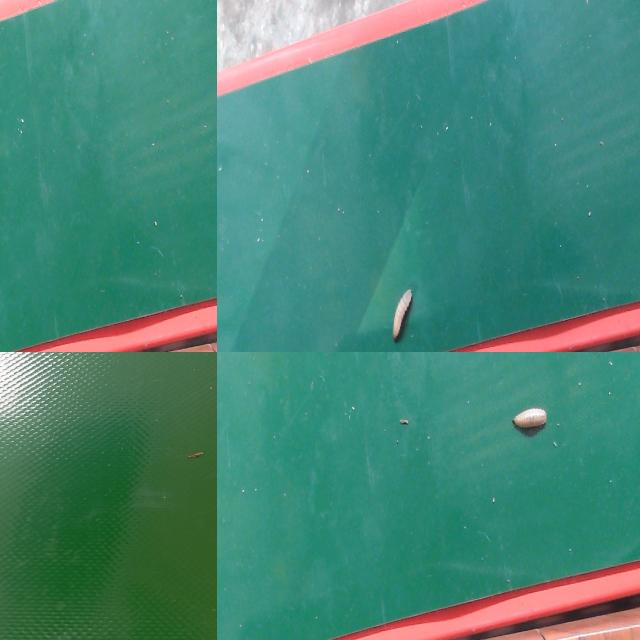Maggot: (390, 289, 414, 344), (512, 406, 549, 438)
